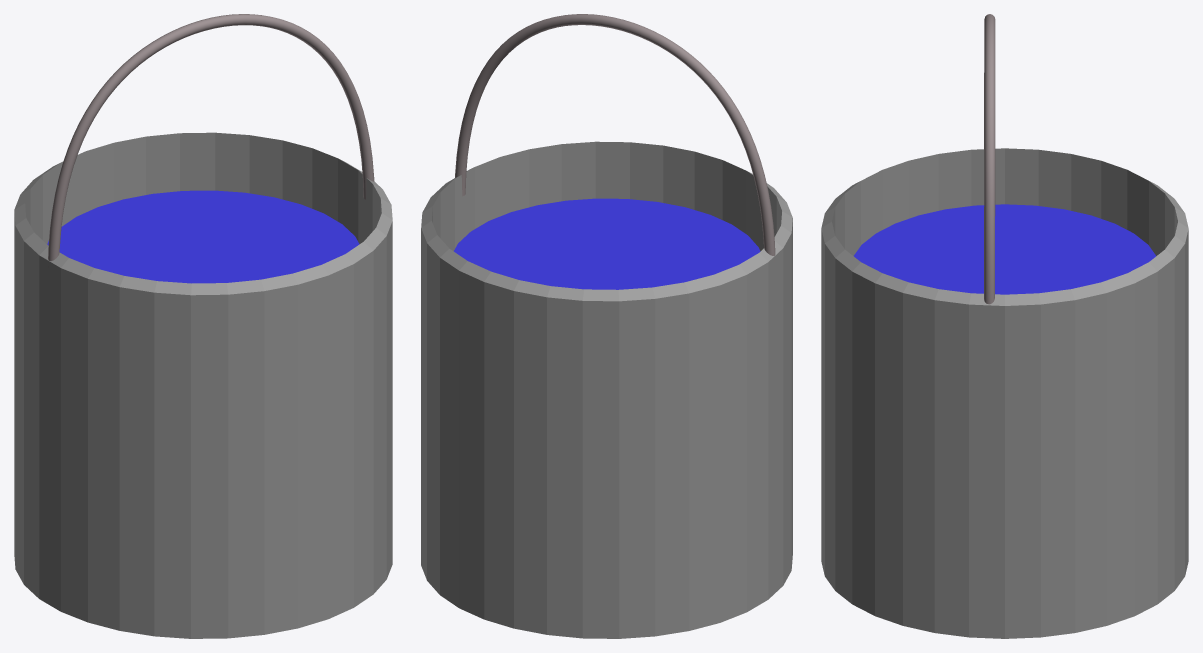
Rendered from BucketBlue.fbx.
3 renders of one model, left to right at view 1: azimuth 30°, elevation 25°; view 2: azimuth 150°, elevation 25°; view 3: azimuth 270°, elevation 25°, orthographic. The views are drawn at different scales.
Parts seen in each view (by area): view 1: BucketBlue, BucketBluePaint, BucketBlueHandle; view 2: BucketBlue, BucketBluePaint, BucketBlueHandle; view 3: BucketBlue, BucketBluePaint, BucketBlueHandle.
Part boxes in pixels (x1=…): BucketBlue: x1=14, y1=132, x2=392, y2=638; BucketBluePaint: x1=47, y1=190, x2=359, y2=283; BucketBlueHandle: x1=48, y1=14, x2=374, y2=267; BucketBlue: x1=421, y1=141, x2=792, y2=638; BucketBluePaint: x1=453, y1=198, x2=760, y2=289; BucketBlueHandle: x1=455, y1=14, x2=775, y2=262; BucketBlue: x1=821, y1=148, x2=1188, y2=638; BucketBluePaint: x1=854, y1=204, x2=1155, y2=294; BucketBlueHandle: x1=984, y1=14, x2=995, y2=304.
Bounding box in the file's own units: 37.32 × 37.32 × 59.32.
